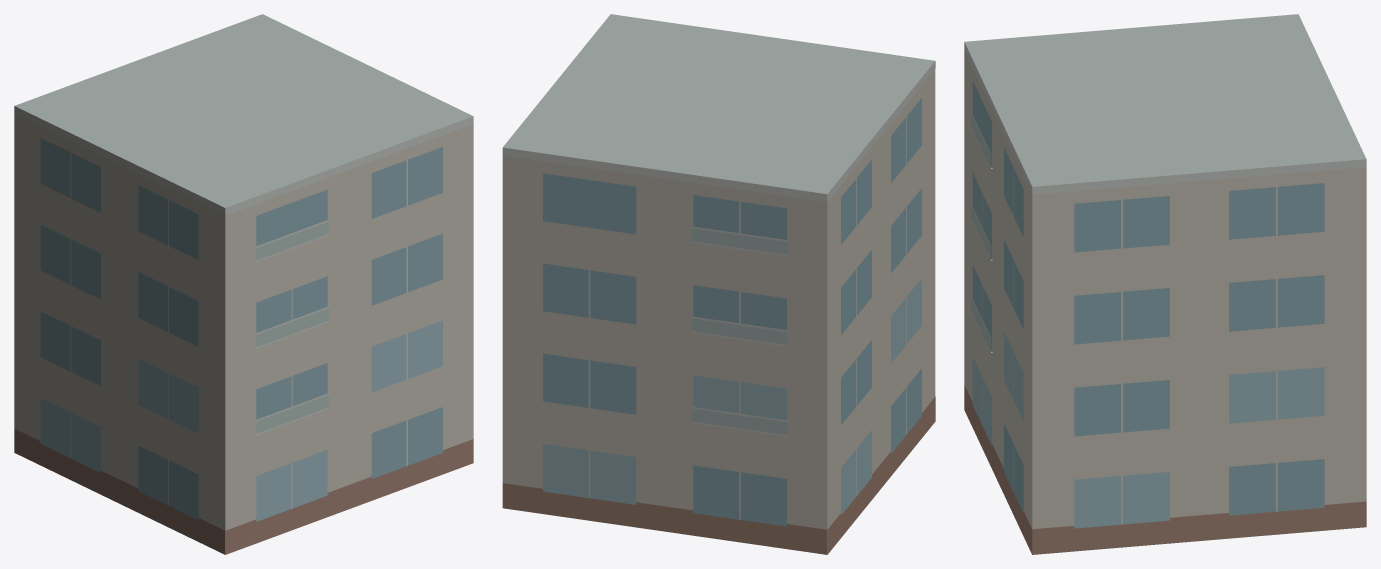
File: survey-upis-33006063.glb
3 renders of one model, left to right at view 1: azimuth 30°, elevation 25°; view 2: azimuth 150°, elevation 25°; view 3: azimuth 270°, elevation 25°, orthographic. The views are drawn at different scales.
Visible parts, largest first — view 1: survey-upis-33006063.tmp; view 2: survey-upis-33006063.tmp; view 3: survey-upis-33006063.tmp.
Part boxes in pixels (bbox=[...]): survey-upis-33006063.tmp: bbox=[14, 14, 473, 554]; survey-upis-33006063.tmp: bbox=[502, 14, 935, 554]; survey-upis-33006063.tmp: bbox=[964, 14, 1366, 554].
Size of the model in its own units: 11.29 by 11.2 by 11.11.
